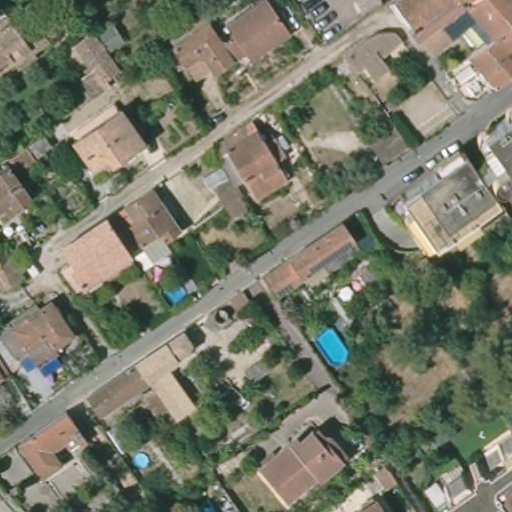pool: (316, 325, 353, 370), (155, 272, 191, 304), (131, 450, 153, 470)
